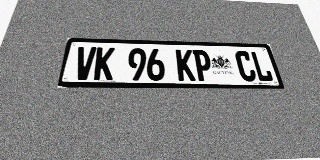6: (147, 48, 165, 81)
9: (128, 48, 146, 80)
C: (234, 51, 257, 82)
K: (93, 47, 115, 80), (175, 49, 196, 81)
L: (250, 51, 274, 82)
P: (192, 50, 213, 81)
V: (73, 47, 96, 80)
